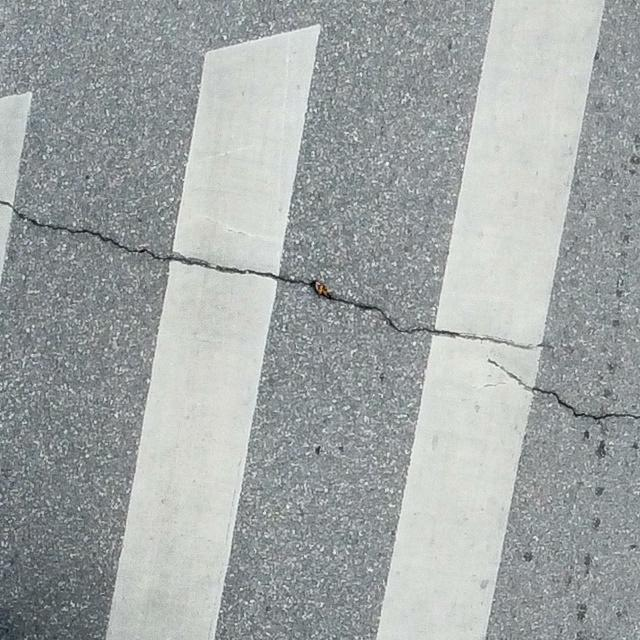TransverseCrack: (1, 201, 555, 351), (485, 357, 640, 421)
